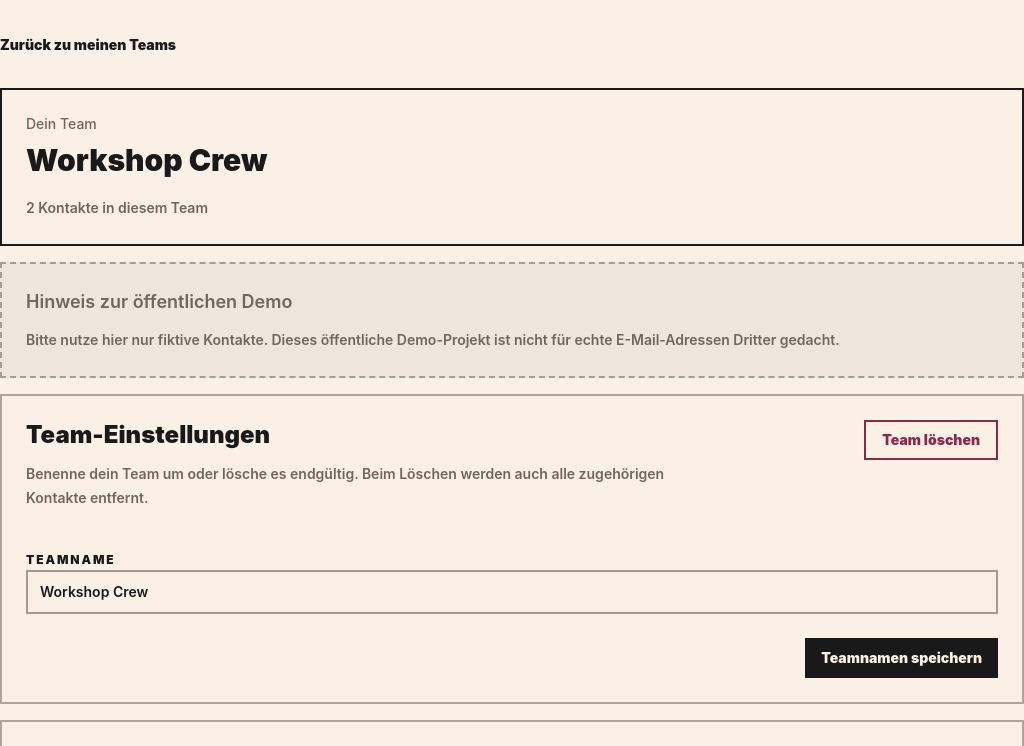
Scenario: TeamDetailPageClient › renames team and adds member
Check: the heading "Workshop Crew" is shown, box left=26, top=142, right=267, bottom=178
Replace the text in the field labelled "Teamname" with "Core Crew". click: coordinates (512, 592)
box: left=26, top=570, right=998, bottom=614
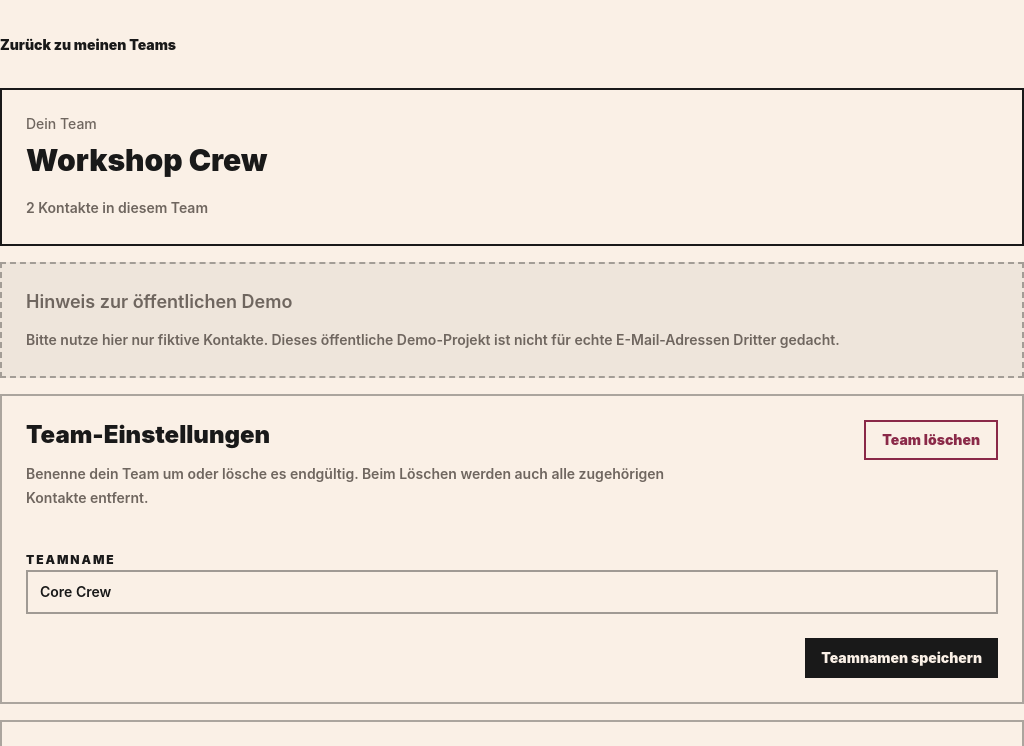
Click the button "Teamnamen speichern". click: coordinates (902, 658)
box: left=805, top=638, right=998, bottom=678
(page scrolled)
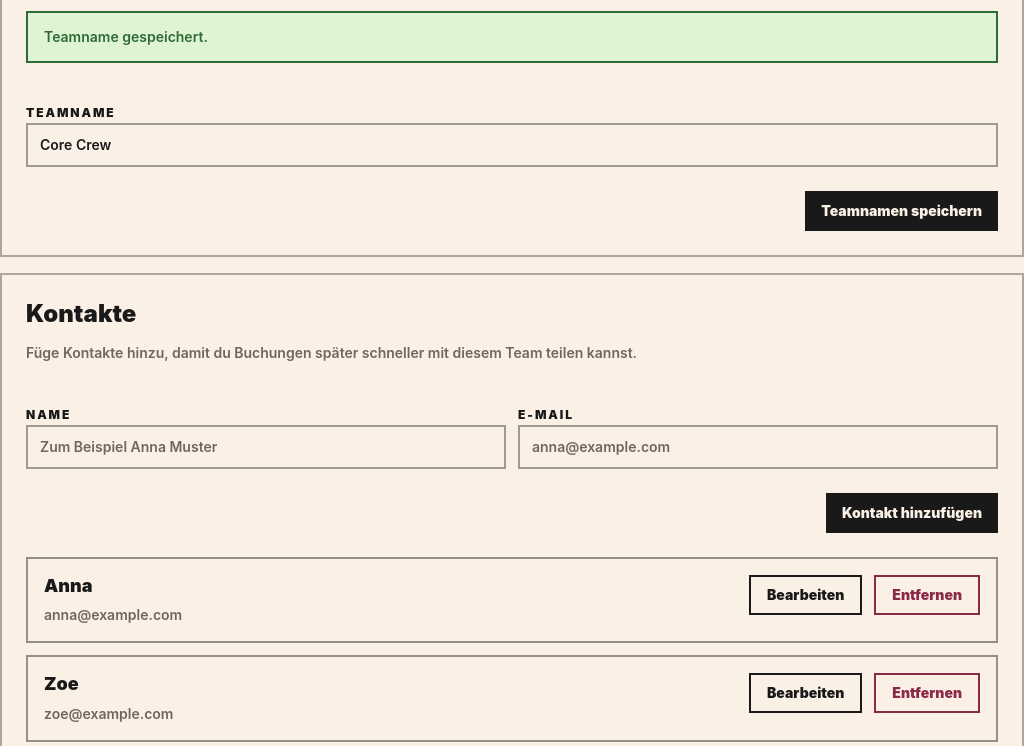
Check: the text "Teamname gespeichert." is shown, box left=44, top=28, right=208, bottom=44
Type "Ben" into the field labelled "Name". click: coordinates (266, 446)
box: left=26, top=424, right=506, bottom=468
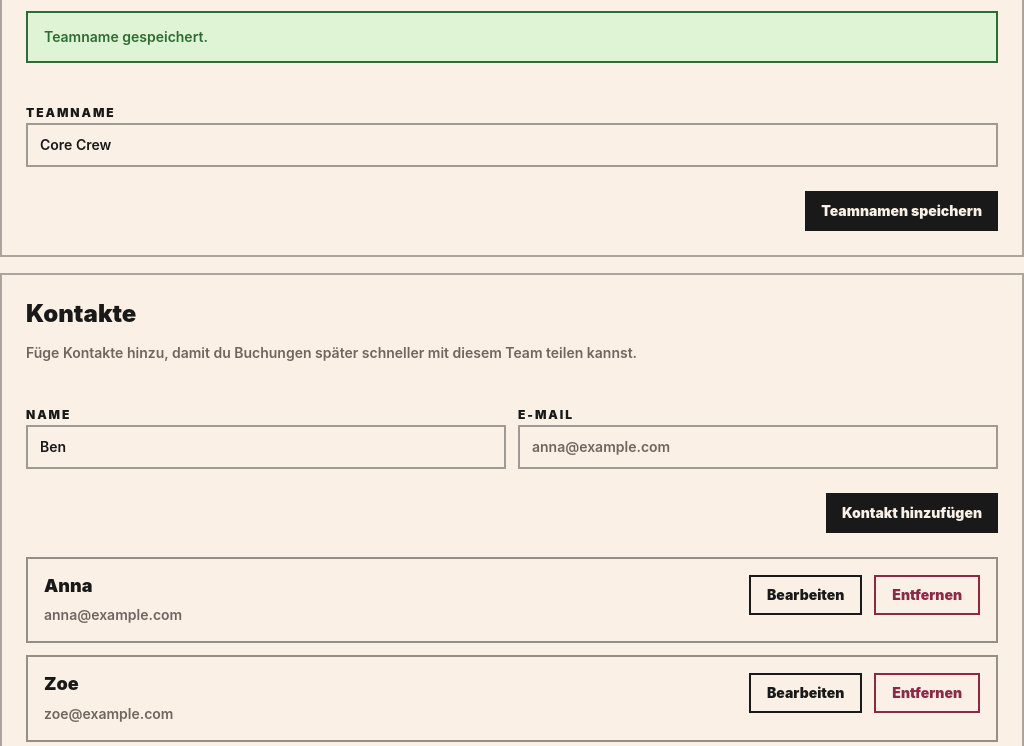
Type "ben@example.com" into the field labelled "E-Mail". click: coordinates (758, 446)
box: left=518, top=424, right=998, bottom=468
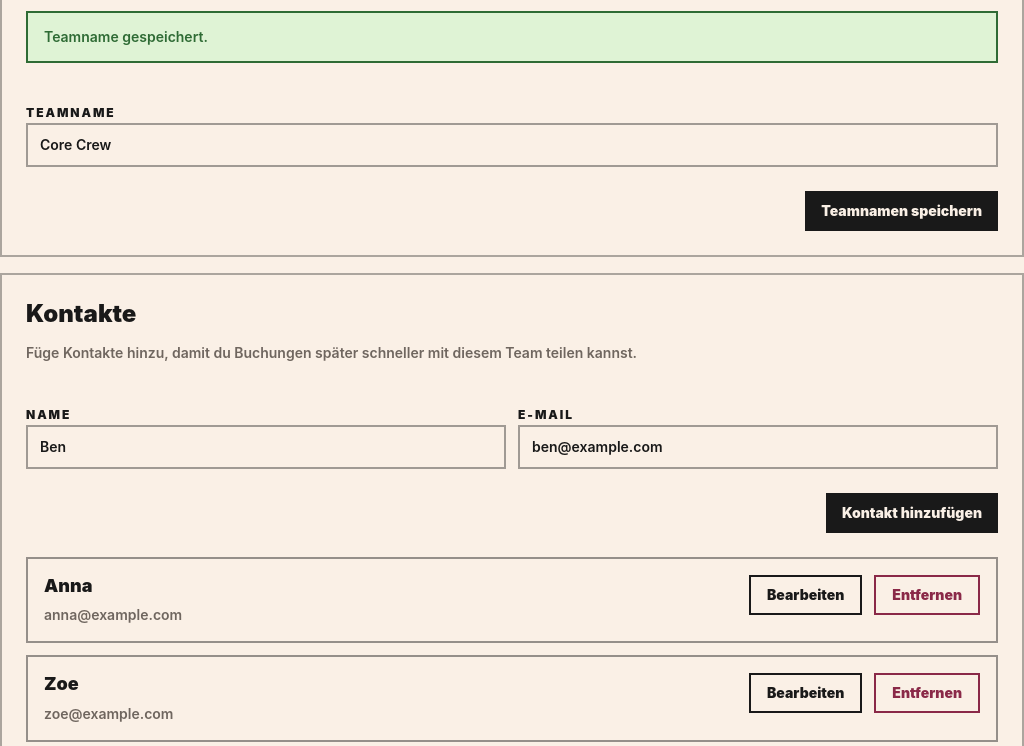
Click the button "Kontakt hinzufügen". click: coordinates (912, 512)
box: left=826, top=492, right=998, bottom=532
(page scrolled)
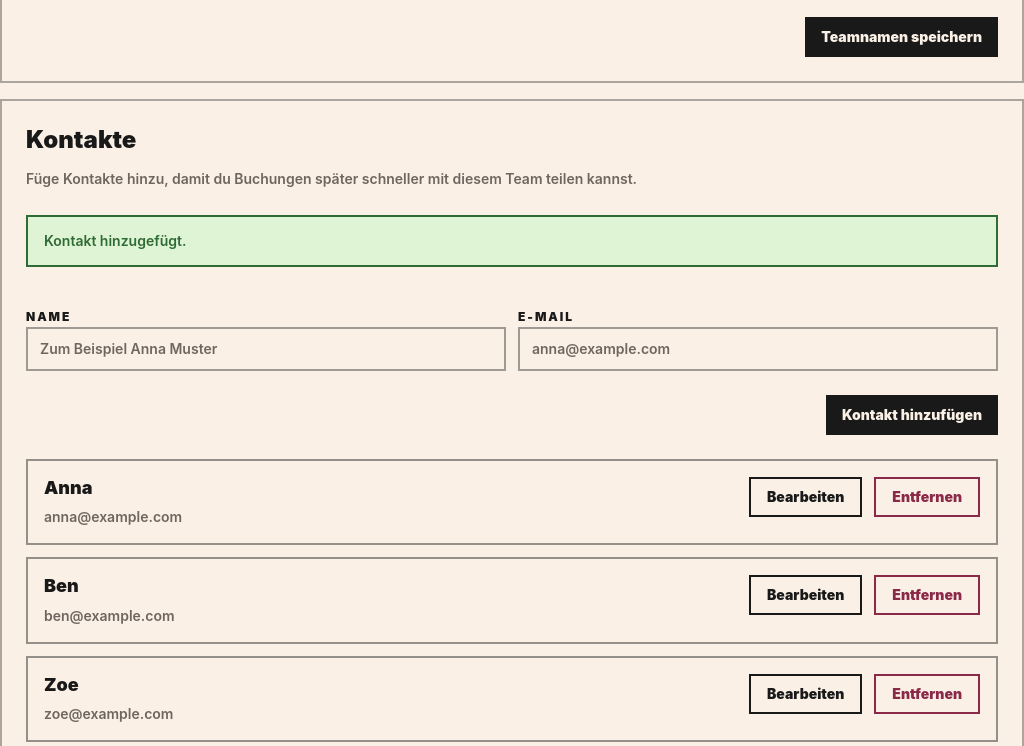
Check: the text "Kontakt hinzugefügt." is shown, box left=44, top=232, right=186, bottom=248
Check: the heading "Ben" is shown, box left=44, top=575, right=79, bottom=596
